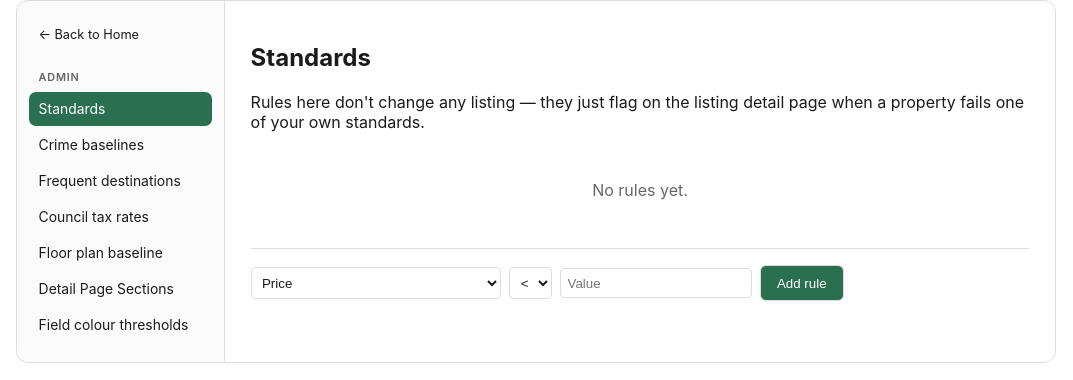
Test: AdminPage council tax rates › floor plan baseline panel is inert until selected, then fetches the baseline
The image size is (1073, 380).
Click the button "Floor plan baseline". click: [120, 253]
box: [29, 236, 212, 270]
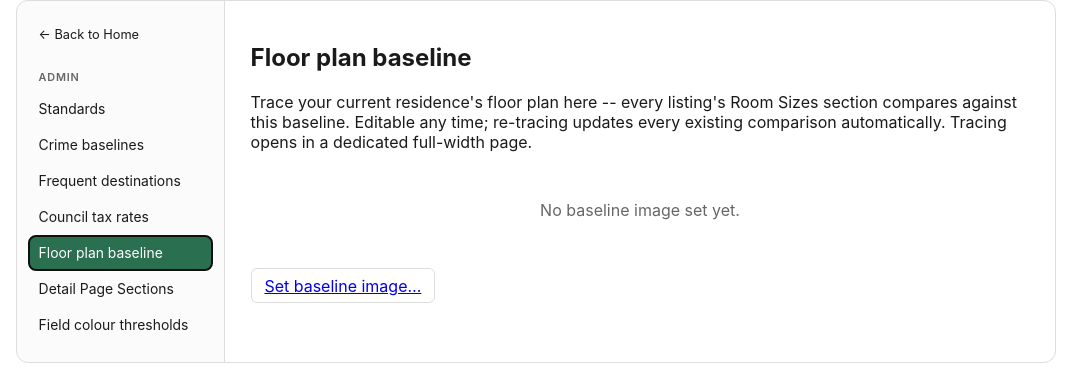
Expected: the text "No baseline image set yet." is shown, [540, 200, 740, 220]
